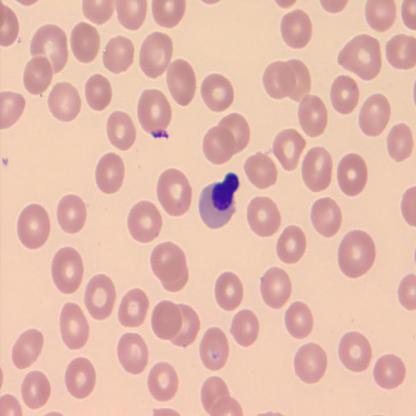NRC: (196, 170, 240, 230)
